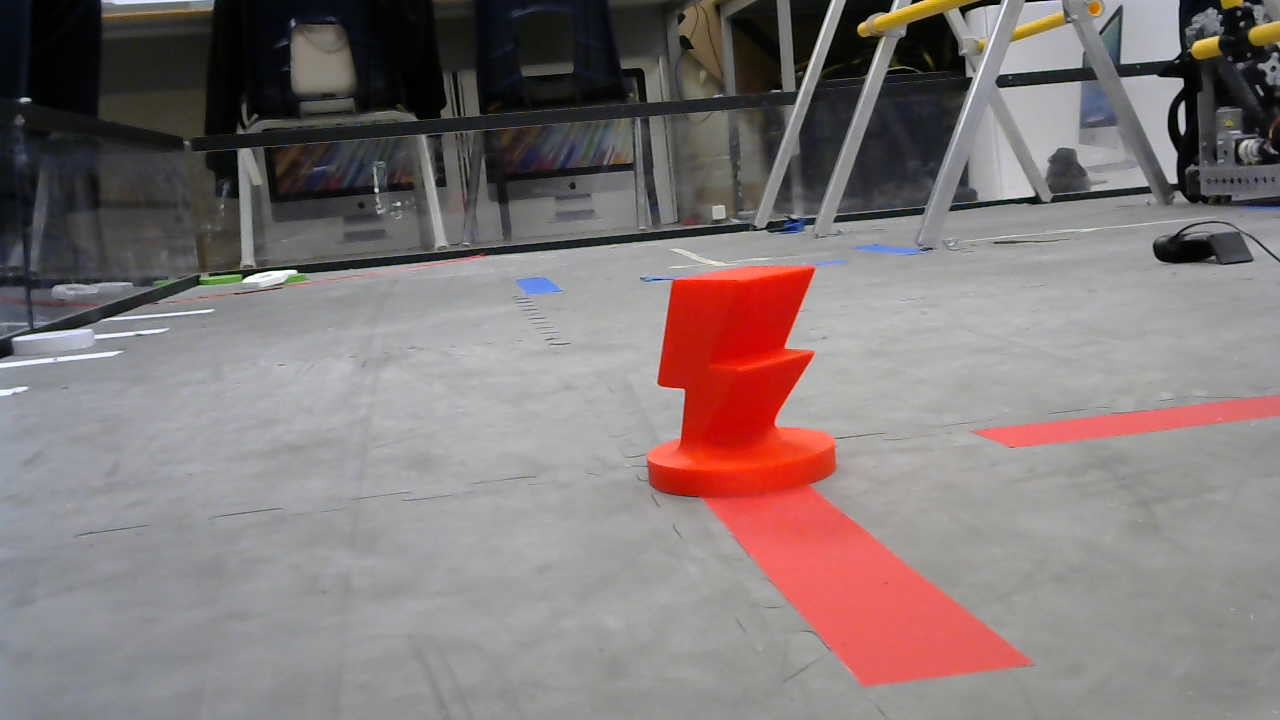redobject: (645, 260, 839, 493)
